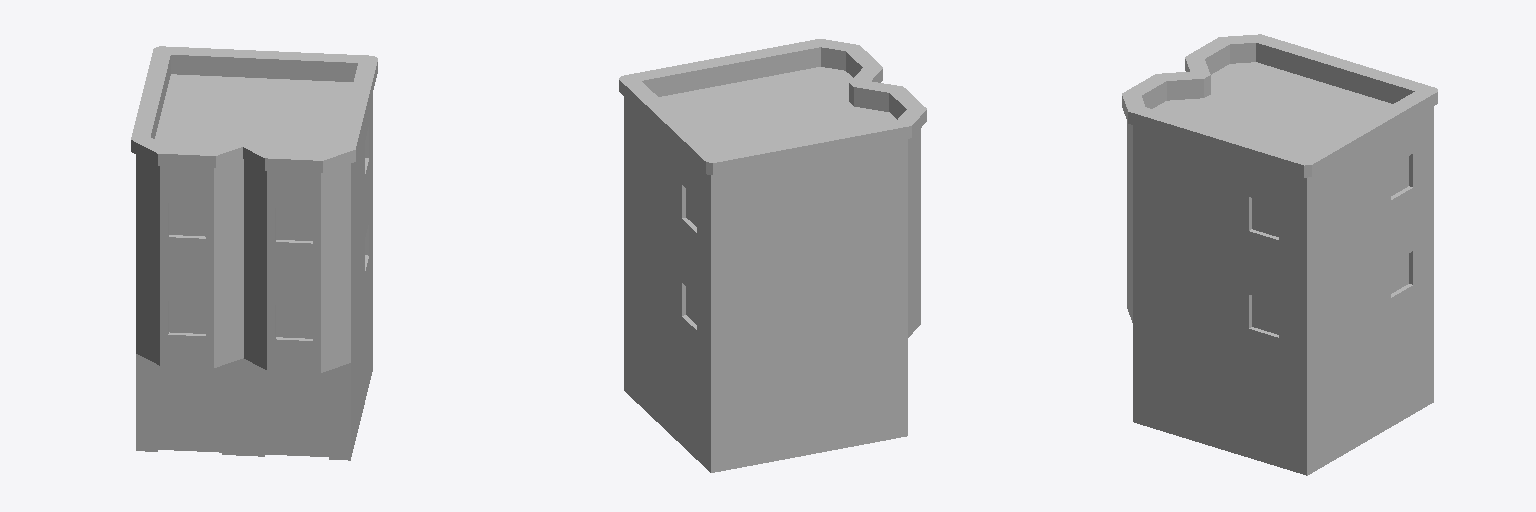
Rendered from variant_20.obj.
3 views of the same model, side by side, from view 1: azimuth 30°, elevation 25°; view 2: azimuth 150°, elevation 25°; view 3: azimuth 270°, elevation 25° (orthographic).
Parts seen in each view (by area): view 1: small_buildingA; view 2: small_buildingA; view 3: small_buildingA.
Part boxes in pixels (x1,y1,x2,y2): small_buildingA: (131, 46, 377, 460); small_buildingA: (619, 39, 926, 472); small_buildingA: (1122, 34, 1437, 475).
Bounding box in the file's own units: 1.15 × 1.28 × 1.18.